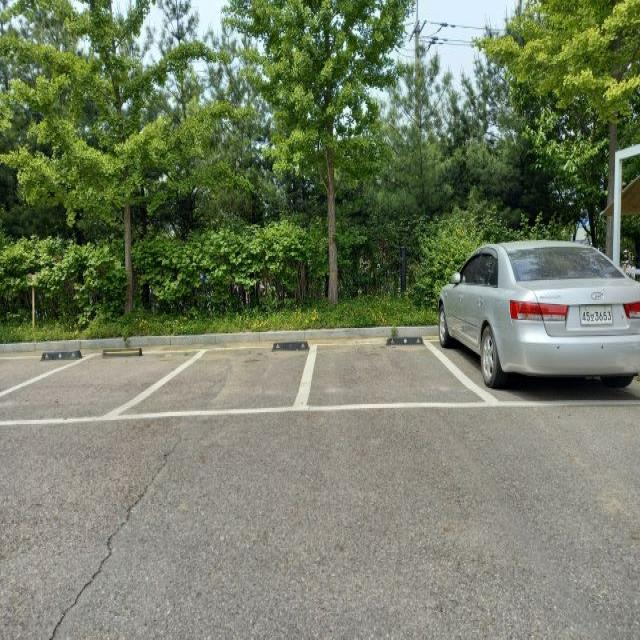empty: (3, 354, 201, 426), (116, 341, 312, 413), (300, 336, 484, 408)
occupied: (437, 240, 640, 392)
